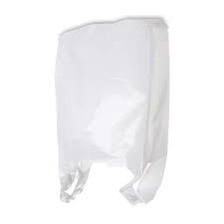plastic_bag: (48, 13, 173, 212)
